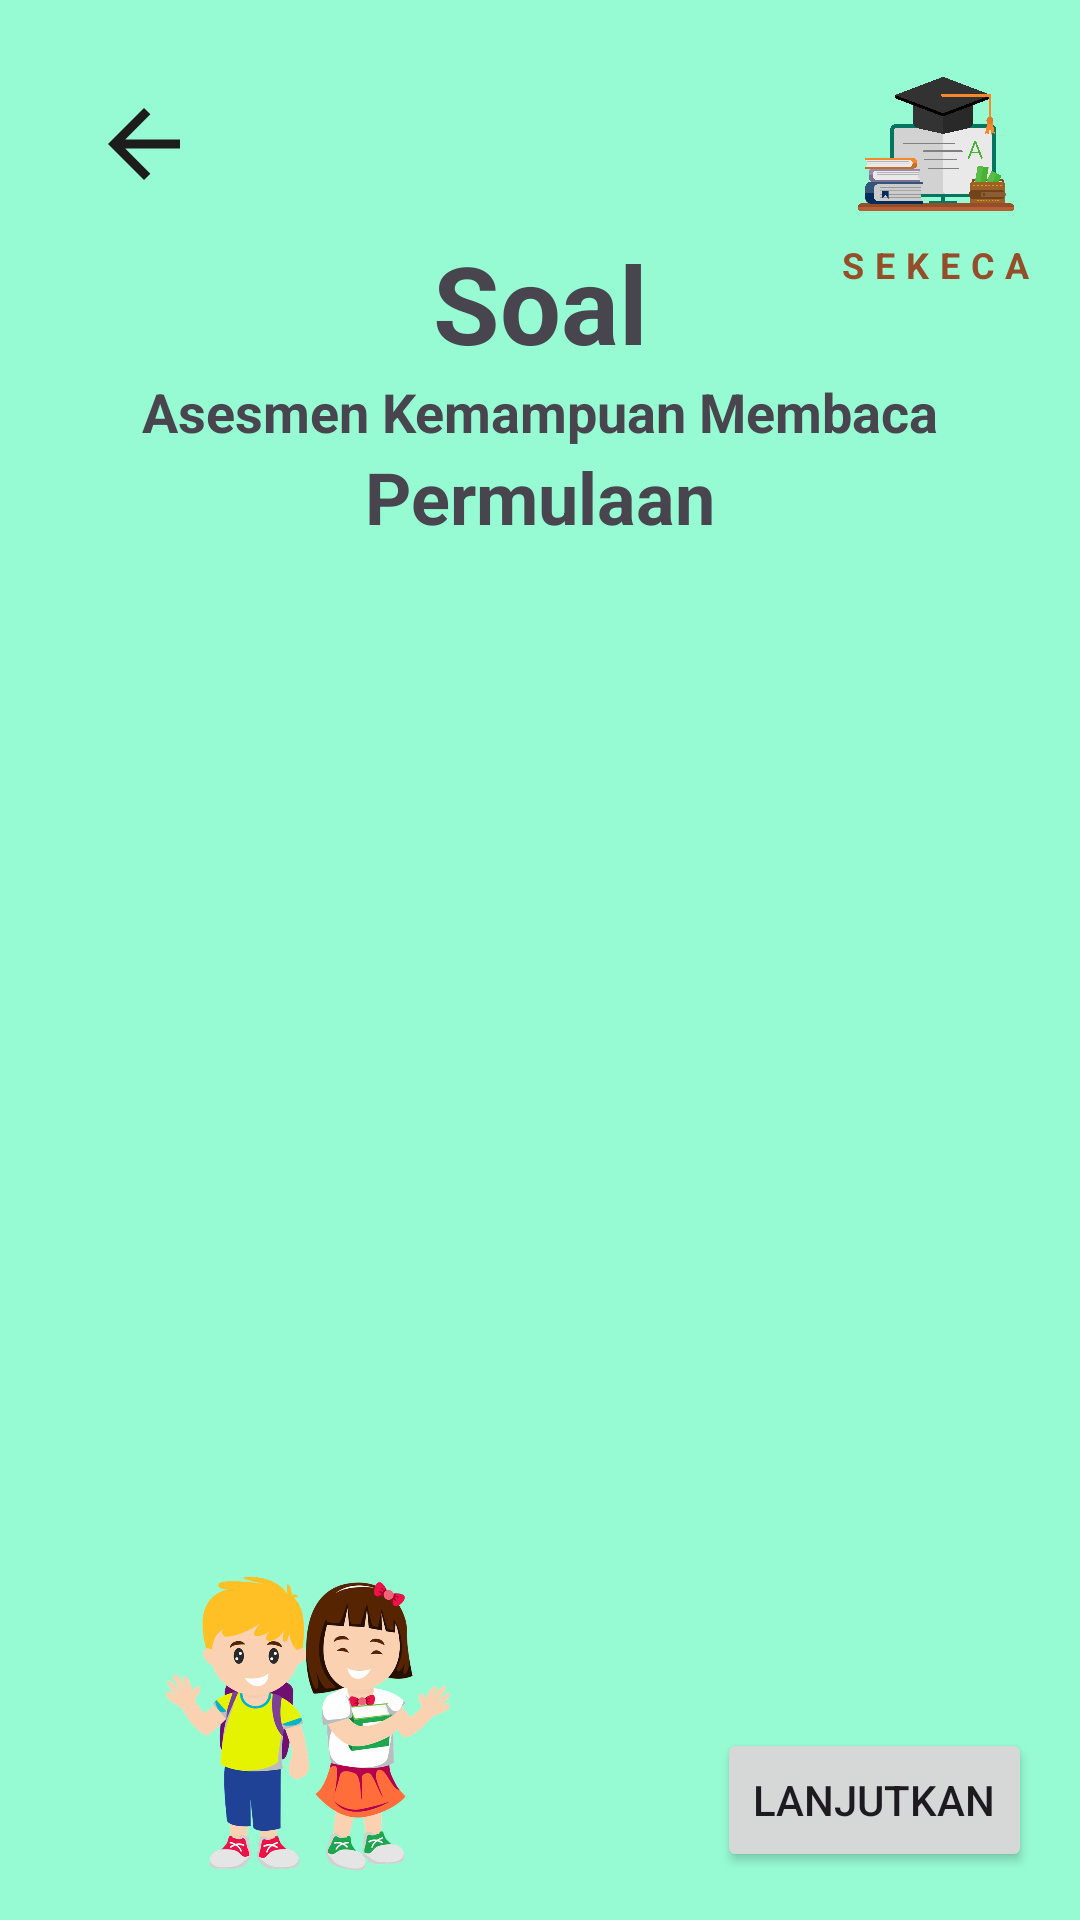

Point at icon controls on the screen. Image size 1080×1920, points as (x,y).
Gambar Anak Anak: (308,1723)
Kembali: (144,144)
